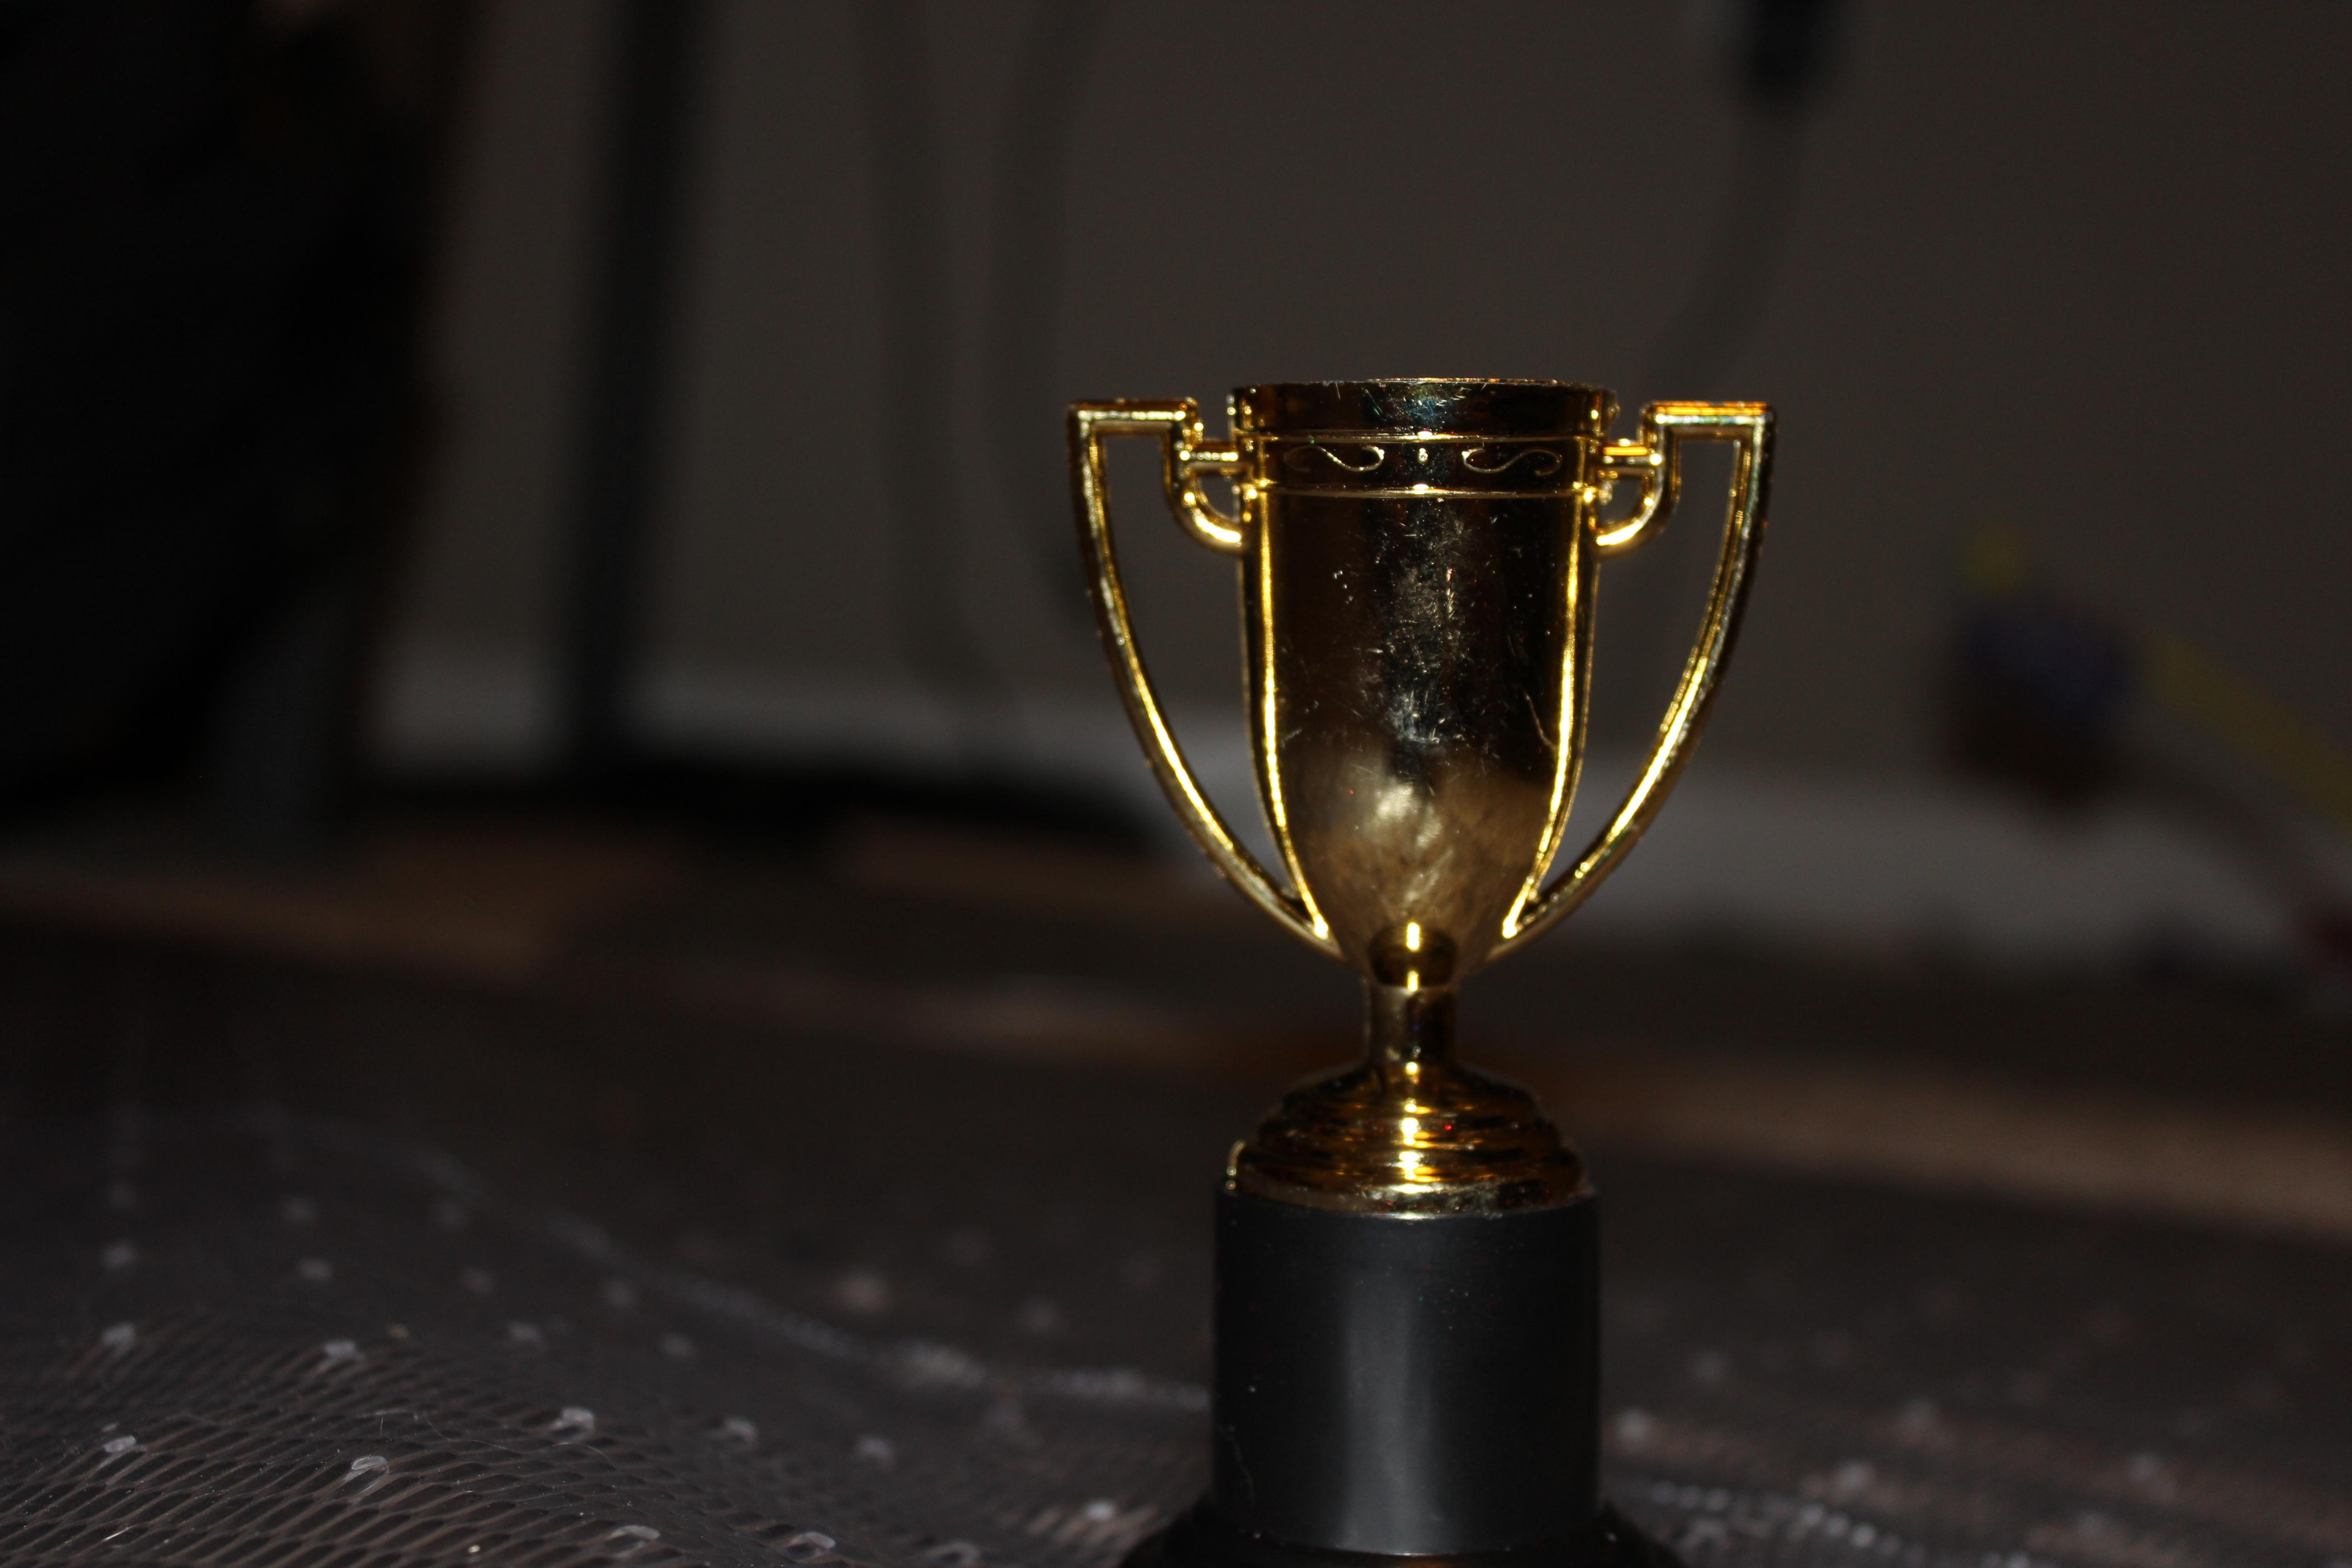trophy: (1015, 338, 1853, 1568)
